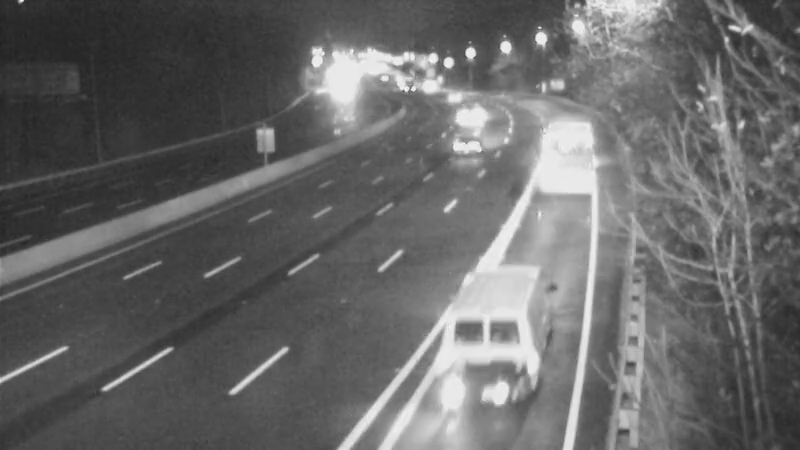vehicle: (436, 292, 546, 402), (428, 74, 478, 124), (454, 85, 504, 135), (443, 117, 493, 167), (539, 124, 589, 174)
